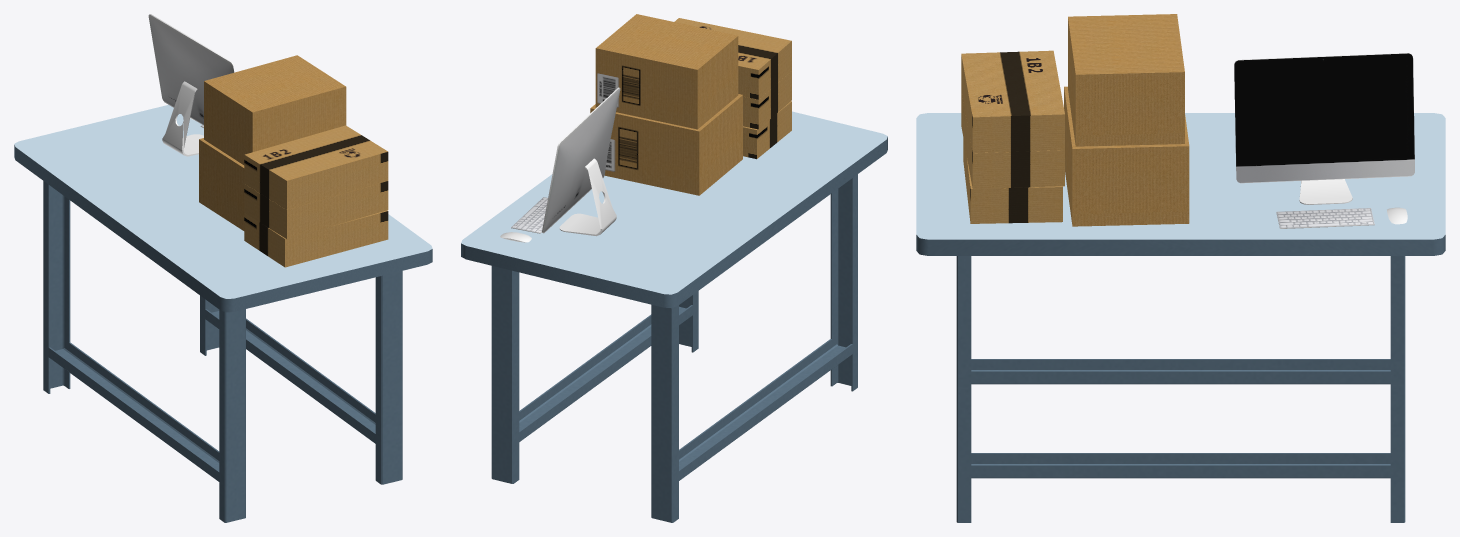
File: desk.glb
3 views of the same model, side by side, from view 1: azimuth 30°, elevation 25°; view 2: azimuth 150°, elevation 25°; view 3: azimuth 270°, elevation 25° (orthographic). The views are drawn at different scales.
Parts seen in each view (by area): view 1: aws_robomaker_warehouse_DeskC_01_visual-lib, aws_robomaker_warehouse_DeskC_01_visual-lib_3, aws_robomaker_warehouse_DeskC_01_visual-lib_2, aws_robomaker_warehouse_DeskC_01_visual-lib_1; view 2: aws_robomaker_warehouse_DeskC_01_visual-lib, aws_robomaker_warehouse_DeskC_01_visual-lib_2, aws_robomaker_warehouse_DeskC_01_visual-lib_1, aws_robomaker_warehouse_DeskC_01_visual-lib_3; view 3: aws_robomaker_warehouse_DeskC_01_visual-lib, aws_robomaker_warehouse_DeskC_01_visual-lib_1, aws_robomaker_warehouse_DeskC_01_visual-lib_2, aws_robomaker_warehouse_DeskC_01_visual-lib_3.
Boxes of the visible parts, x1=… form: aws_robomaker_warehouse_DeskC_01_visual-lib: x1=14, y1=105, x2=432, y2=522; aws_robomaker_warehouse_DeskC_01_visual-lib_3: x1=244, y1=125, x2=388, y2=267; aws_robomaker_warehouse_DeskC_01_visual-lib_2: x1=199, y1=55, x2=346, y2=230; aws_robomaker_warehouse_DeskC_01_visual-lib_1: x1=148, y1=14, x2=234, y2=156; aws_robomaker_warehouse_DeskC_01_visual-lib: x1=461, y1=111, x2=887, y2=522; aws_robomaker_warehouse_DeskC_01_visual-lib_2: x1=590, y1=14, x2=742, y2=195; aws_robomaker_warehouse_DeskC_01_visual-lib_1: x1=500, y1=87, x2=620, y2=242; aws_robomaker_warehouse_DeskC_01_visual-lib_3: x1=674, y1=18, x2=791, y2=159; aws_robomaker_warehouse_DeskC_01_visual-lib: x1=916, y1=113, x2=1445, y2=522; aws_robomaker_warehouse_DeskC_01_visual-lib_1: x1=1234, y1=53, x2=1414, y2=228; aws_robomaker_warehouse_DeskC_01_visual-lib_2: x1=1064, y1=14, x2=1189, y2=226; aws_robomaker_warehouse_DeskC_01_visual-lib_3: x1=961, y1=50, x2=1064, y2=223.
Bounding box in the file's own units: 0.8819 × 1.44 × 1.56.
Materials: 4 (4 with a texture image).
